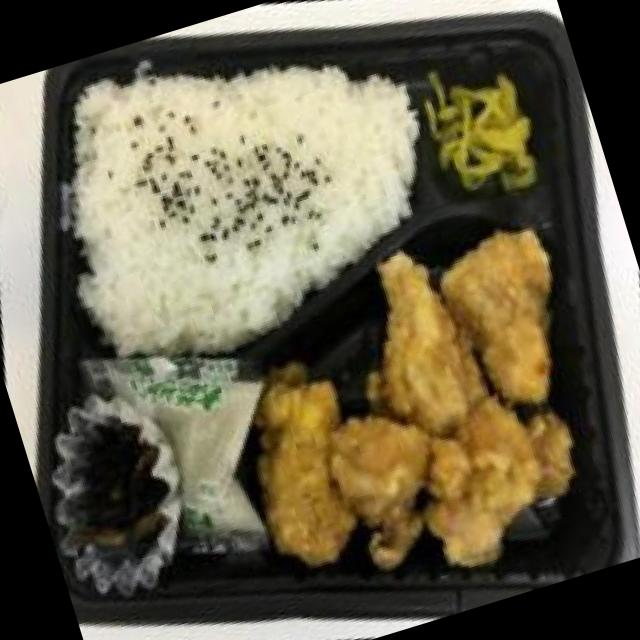rice: (40, 22, 422, 386)
